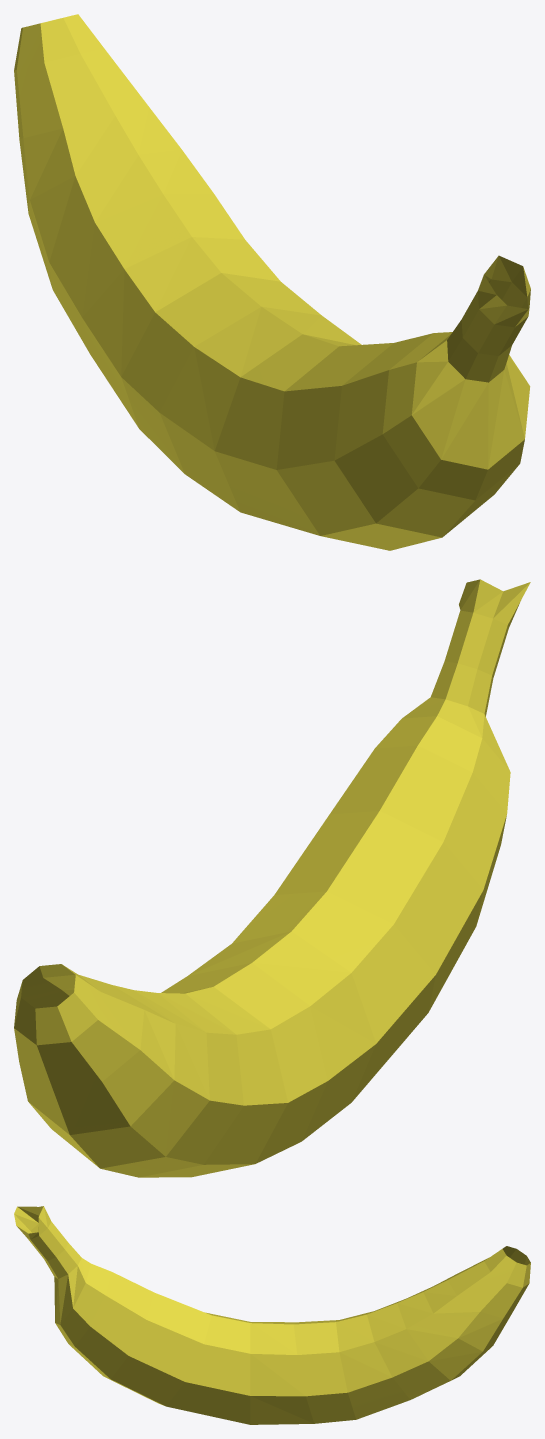
Rendered from Banana 2.fbx.
3 views of the same model, one above another, from view 1: azimuth 30°, elevation 25°; view 2: azimuth 150°, elevation 25°; view 3: azimuth 270°, elevation 25° (orthographic). The views are drawn at different scales.
Visible parts, largest first — view 1: Cylinder; view 2: Cylinder; view 3: Cylinder.
Boxes of the visible parts, box(x1,y1,x2,y2) form: Cylinder: box(14, 14, 530, 550); Cylinder: box(14, 579, 530, 1177); Cylinder: box(14, 1206, 530, 1424).
Size of the model in its own units: 148 by 322 by 694.
